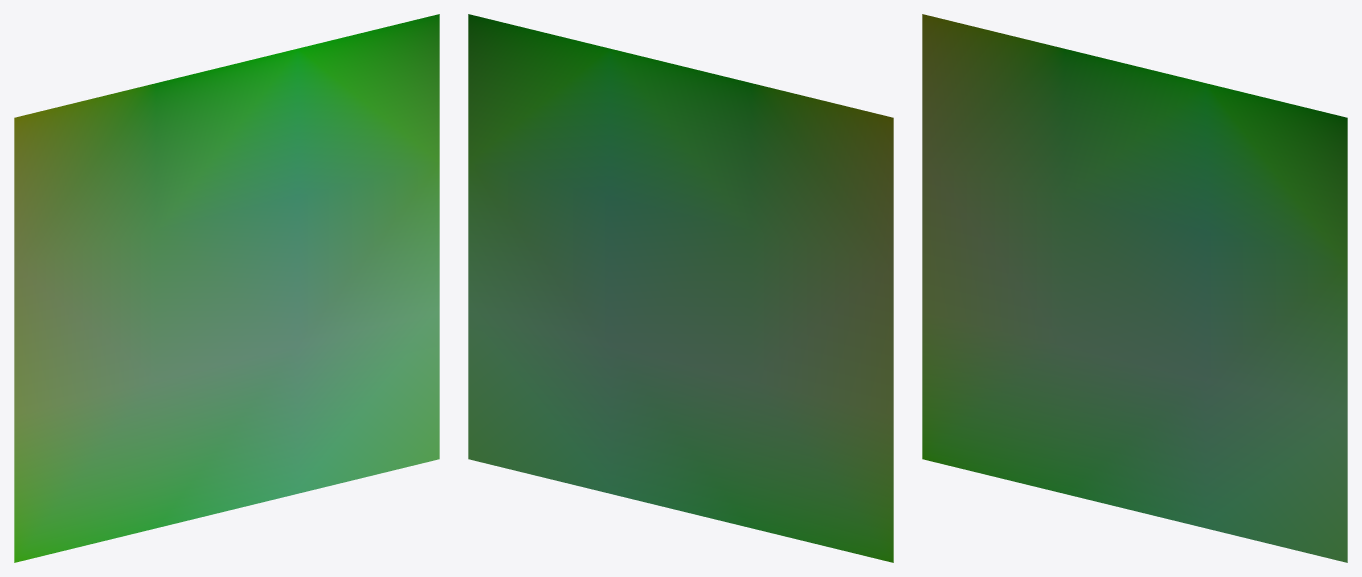
The model's file is BrokenBefore2.fbx.
The picture shows the model from 3 angles, left to right: view 1: azimuth 30°, elevation 25°; view 2: azimuth 150°, elevation 25°; view 3: azimuth 330°, elevation 25°; orthographic projection.
Parts seen in each view (by area): view 1: polySurface37; view 2: polySurface37; view 3: polySurface37.
Part boxes in pixels (bbox=[...]): polySurface37: bbox=[14, 14, 439, 562]; polySurface37: bbox=[468, 14, 893, 562]; polySurface37: bbox=[922, 14, 1347, 562].
Size of the model in its own units: 300 by 300 by 0.000122.
